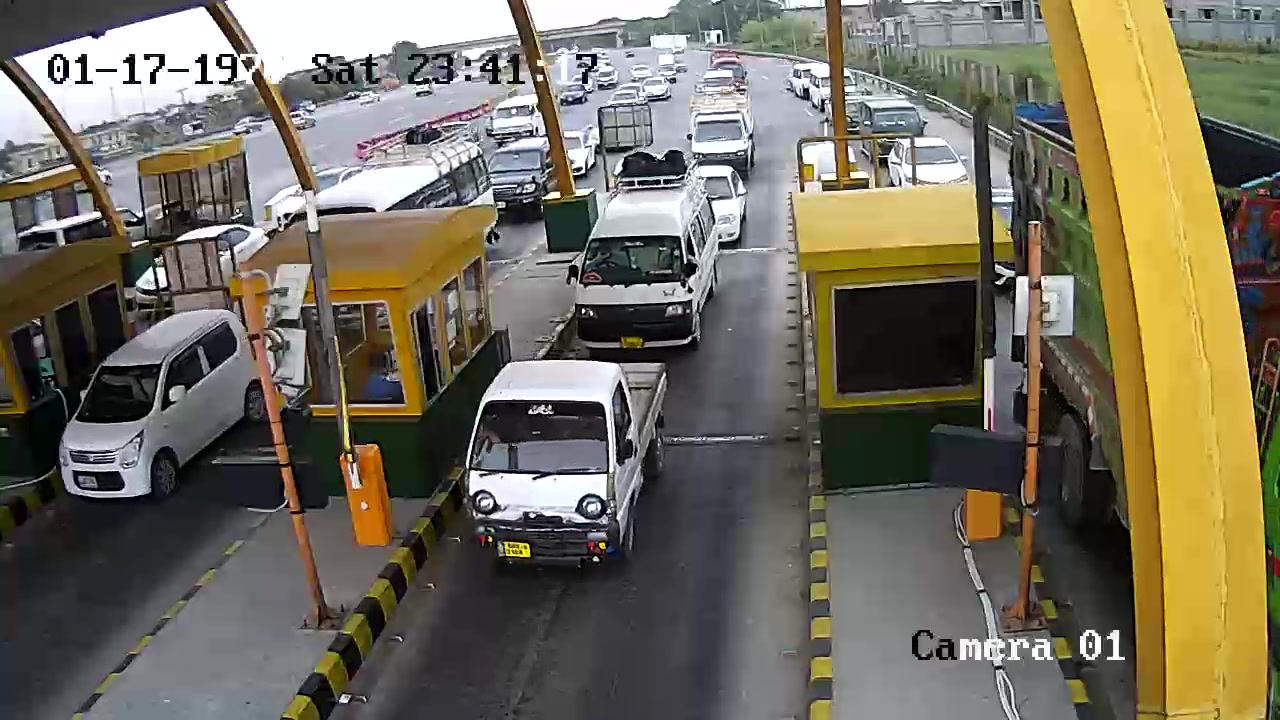F1: (466, 352, 686, 583)
F2: (571, 152, 725, 358)
